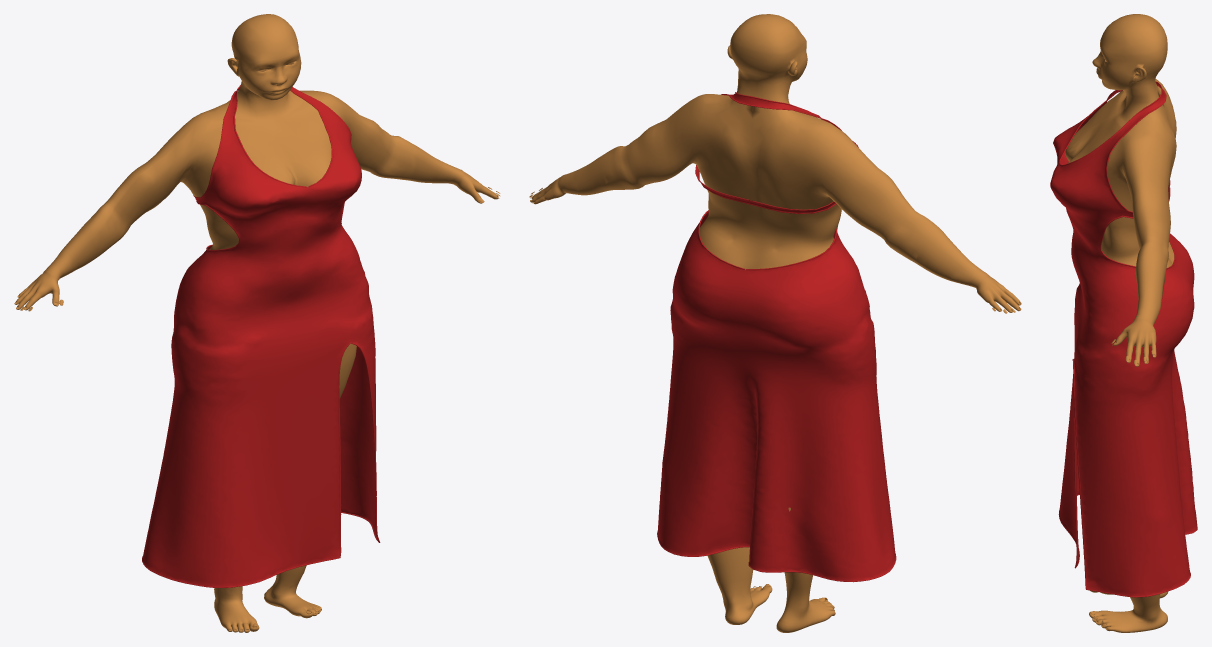
File: dress3.glb
3 renders of one model, left to right at view 1: azimuth 30°, elevation 25°; view 2: azimuth 150°, elevation 25°; view 3: azimuth 270°, elevation 25°, orthographic.
Visible parts, largest first — view 1: EveningDress, Body; view 2: EveningDress, Body; view 3: EveningDress, Body.
Boxes of the visible parts, left/top/right/bottom form: EveningDress: left=142, top=85, right=380, bottom=587; Body: left=14, top=14, right=499, bottom=632; EveningDress: left=657, top=92, right=896, bottom=582; Body: left=530, top=14, right=1021, bottom=632; EveningDress: left=1050, top=81, right=1197, bottom=597; Body: left=1065, top=14, right=1176, bottom=632.
Size of the model in its own units: 1.59 by 1.88 by 0.4195.
